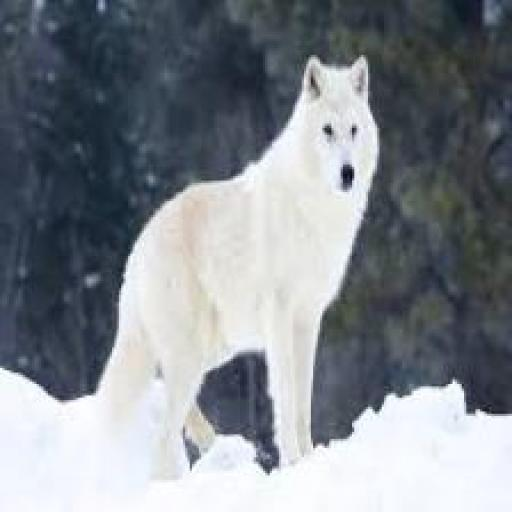wolf: (107, 43, 383, 510)
